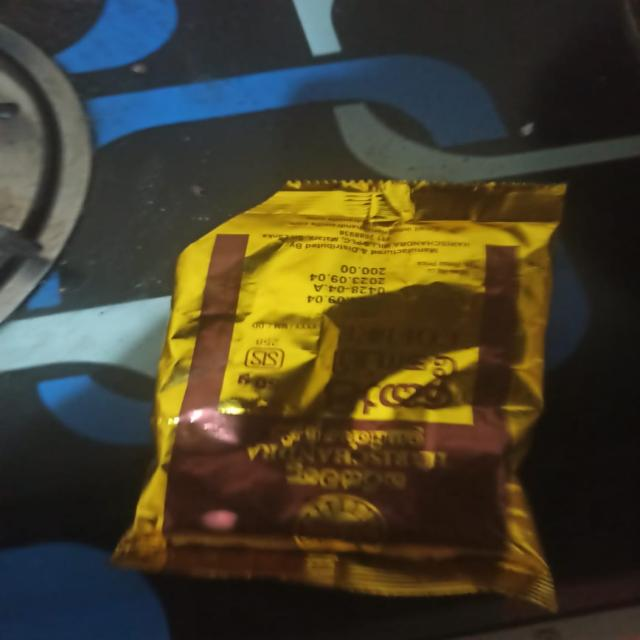Harischandra Coffee: (186, 199, 560, 576)
